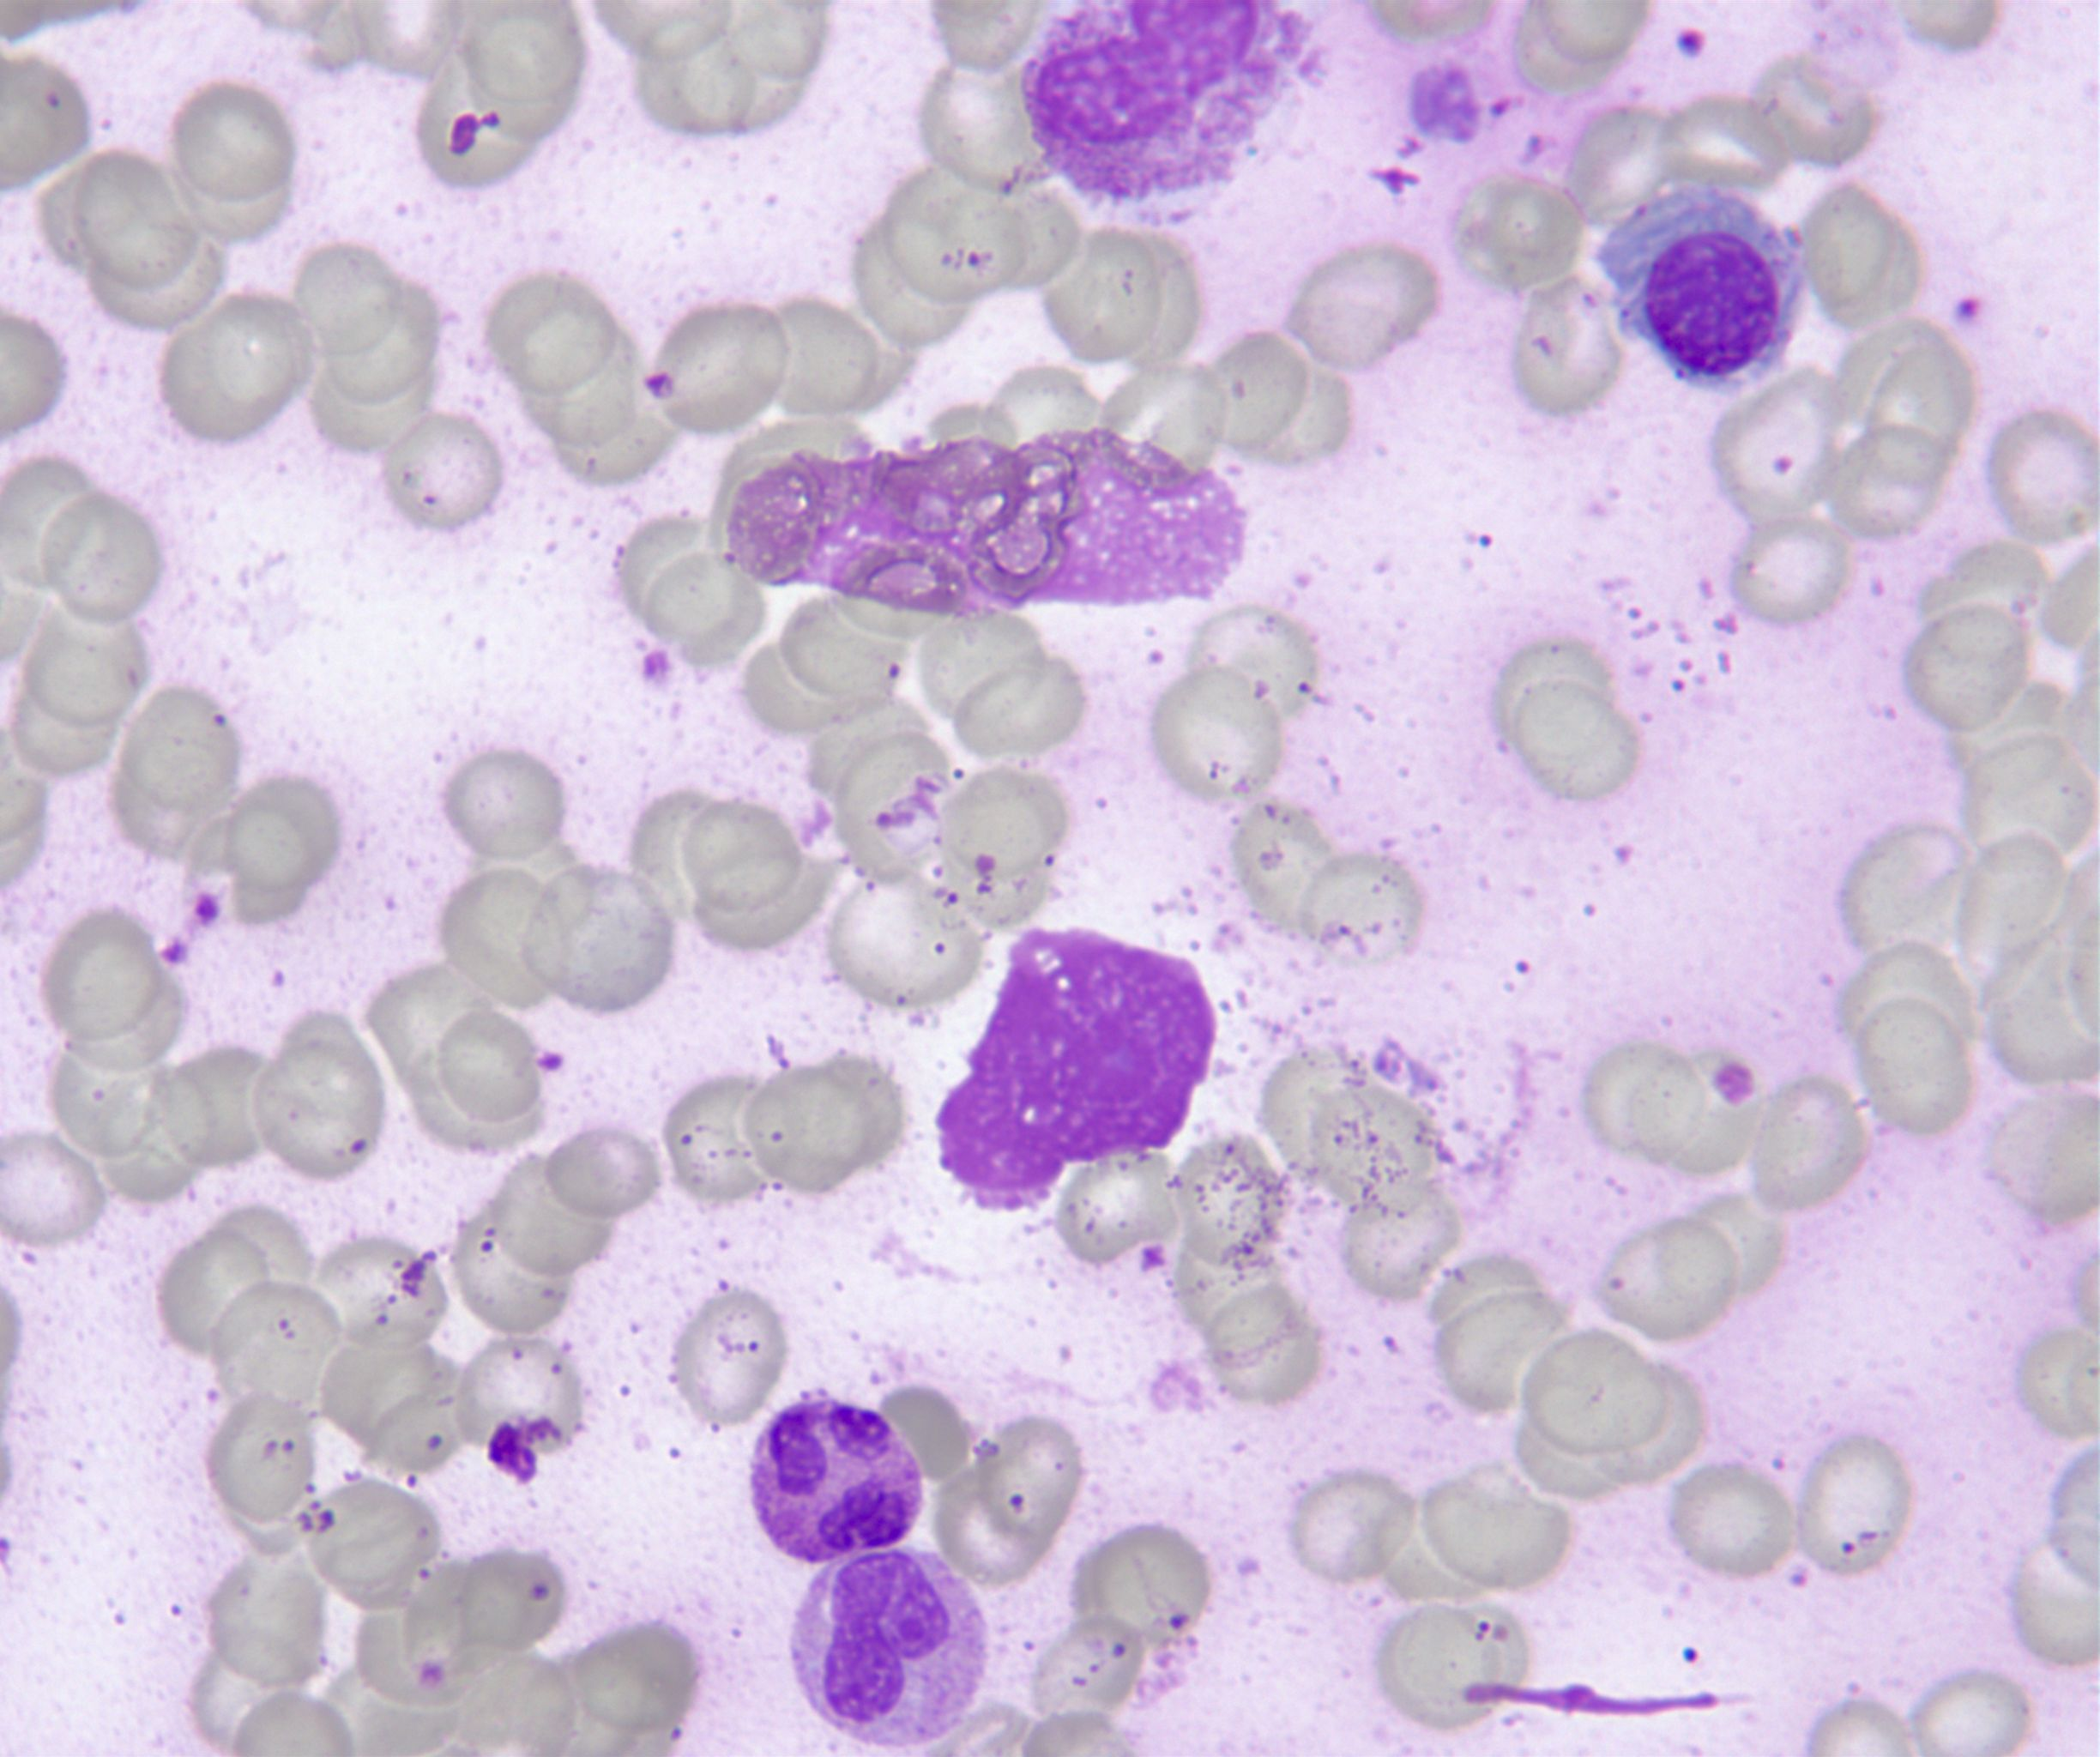23: (1598, 187, 1805, 391)
5: (790, 1544, 989, 1747)
6: (748, 1389, 923, 1562)
x: (729, 427, 1247, 614), (938, 930, 1214, 1209), (1020, 2, 1327, 227)
